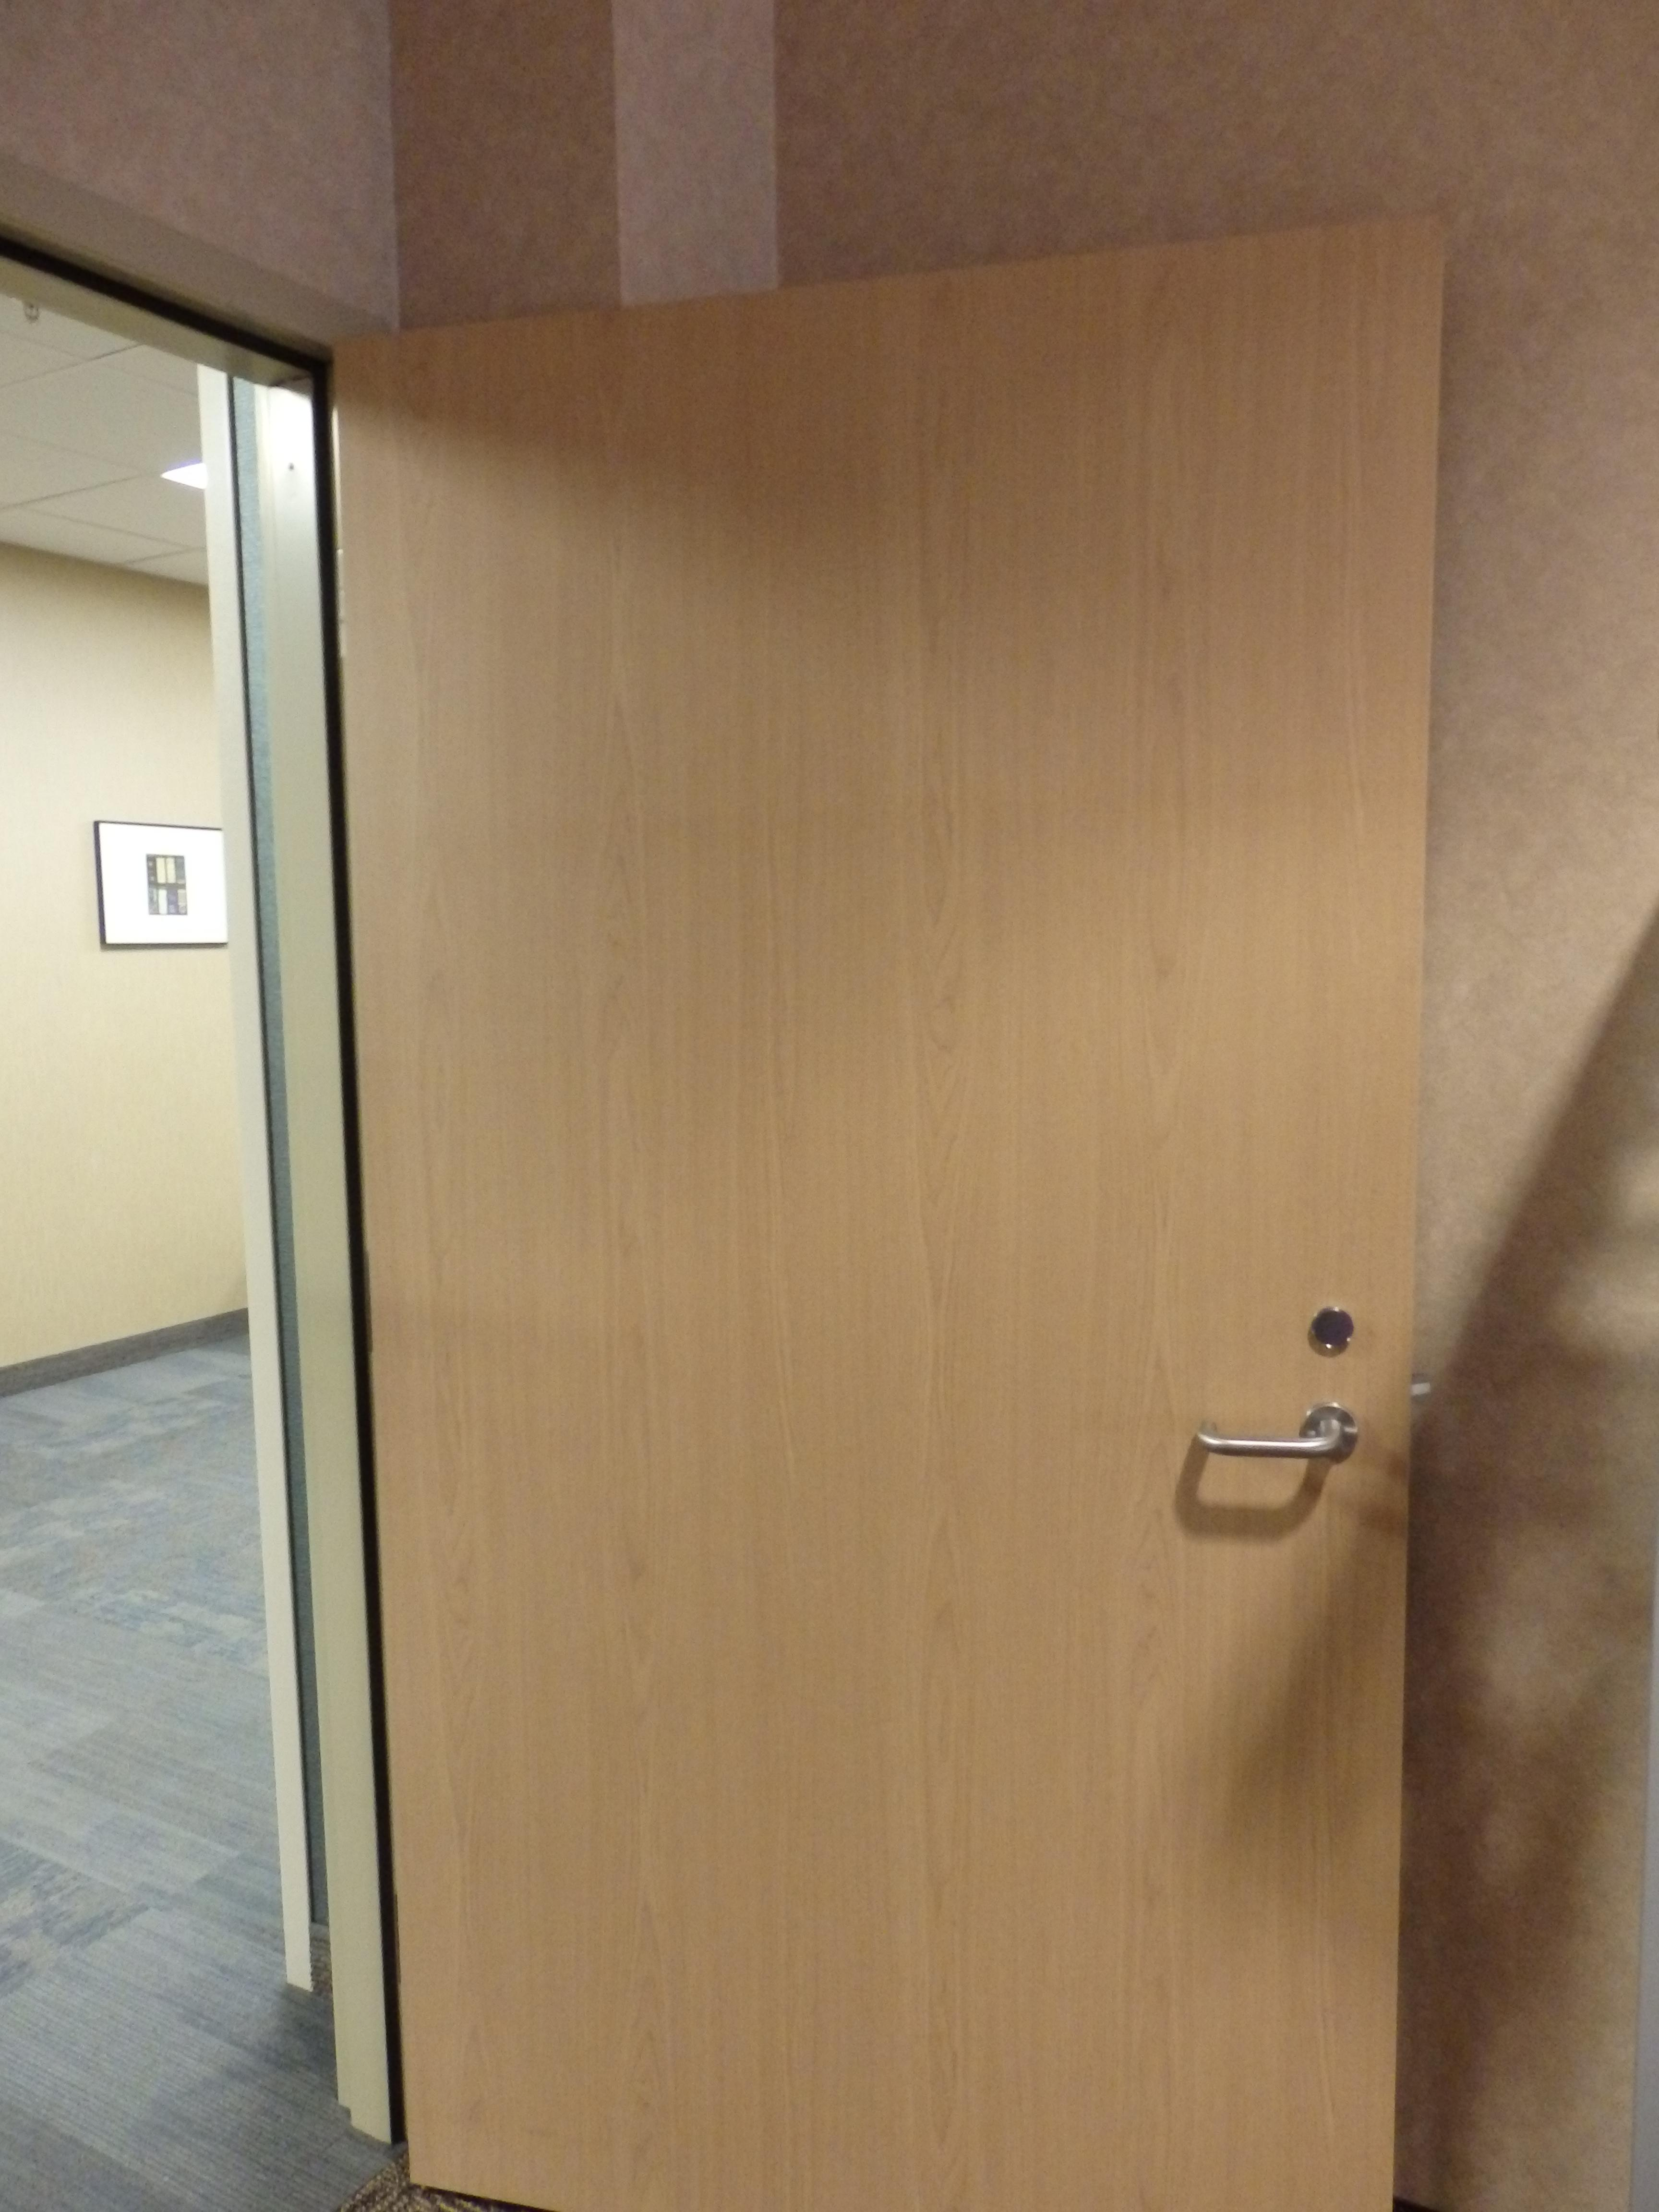door: (5, 153, 1452, 2212)
